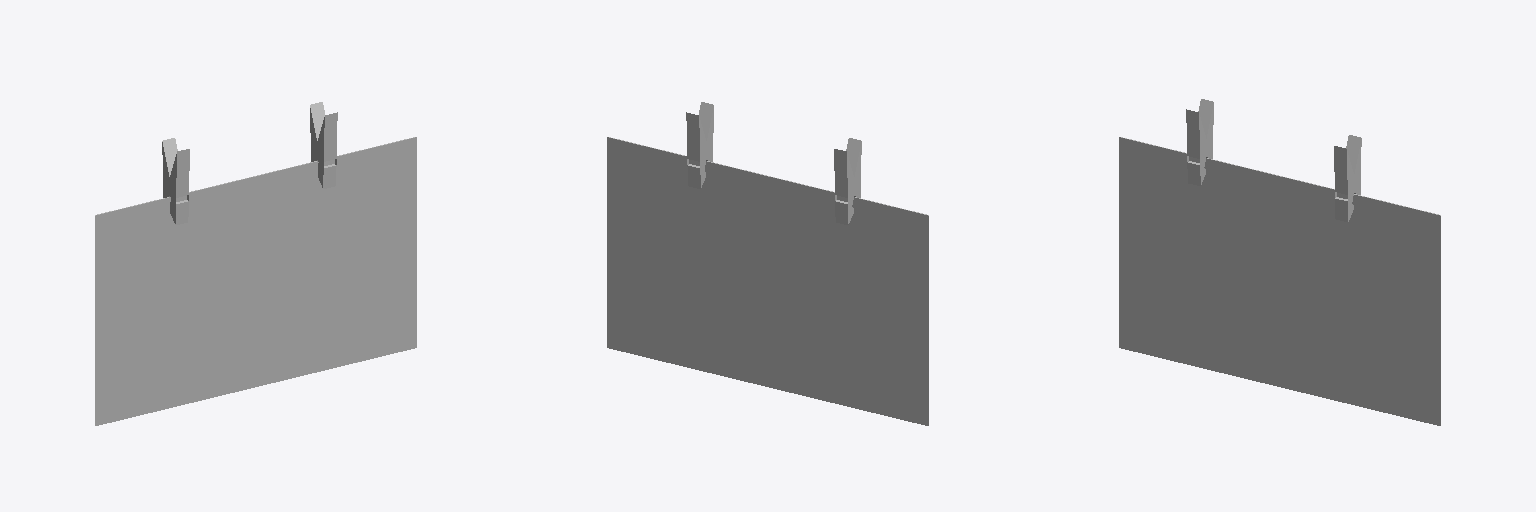
The model's file is Clip_wPhoto_3.obj.
The picture shows the model from 3 angles: view 1: azimuth 30°, elevation 25°; view 2: azimuth 150°, elevation 25°; view 3: azimuth 330°, elevation 25°; orthographic projection.
Visible parts, largest first — view 1: pCube2, Wooden_Clip:Wooden_Clip, Wooden_Clip1; view 2: pCube2, Wooden_Clip:Wooden_Clip, Wooden_Clip1; view 3: pCube2, Wooden_Clip1, Wooden_Clip:Wooden_Clip.
Part boxes in pixels (x1,y1,x2,y2): pCube2: (95, 137, 416, 425); Wooden_Clip:Wooden_Clip: (162, 138, 189, 224); Wooden_Clip1: (310, 102, 337, 188); pCube2: (607, 137, 928, 425); Wooden_Clip:Wooden_Clip: (834, 138, 861, 224); Wooden_Clip1: (686, 102, 713, 188); pCube2: (1119, 137, 1440, 425); Wooden_Clip1: (1334, 135, 1361, 221); Wooden_Clip:Wooden_Clip: (1186, 99, 1213, 185).
Bounding box in the file's own units: 95.04 × 73.82 × 7.6.